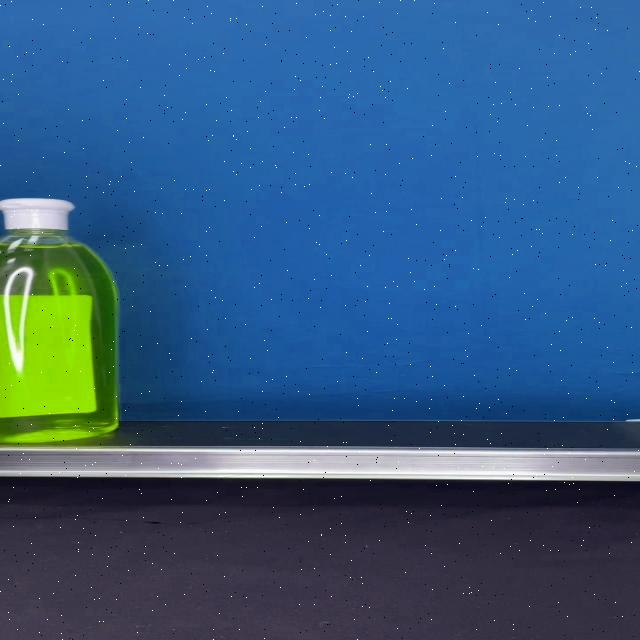Bottle: (0, 199, 118, 443)
Cap: (0, 199, 76, 231)
